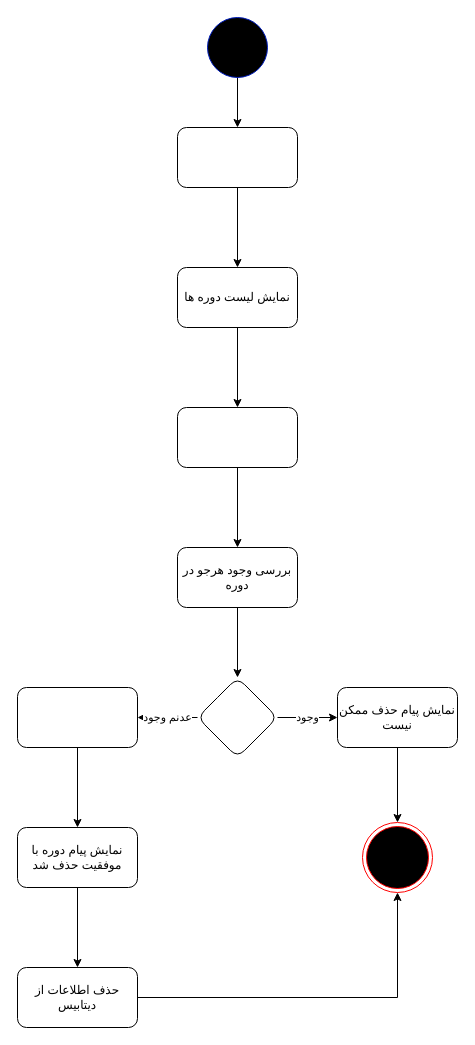
Image size: 475x1045. Some labels were removed from this diagram. Each missing label, with the centre of its shape:
"حذف دوره" goes at point (77, 717).
"زدن حذف" goes at point (237, 437).
"زدن دوره های من" goes at point (237, 157).
